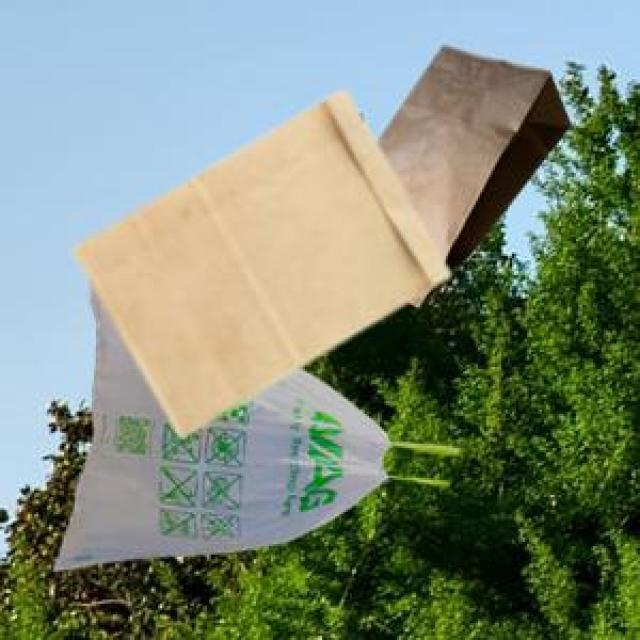paper: (70, 88, 446, 433), (373, 43, 565, 303)
